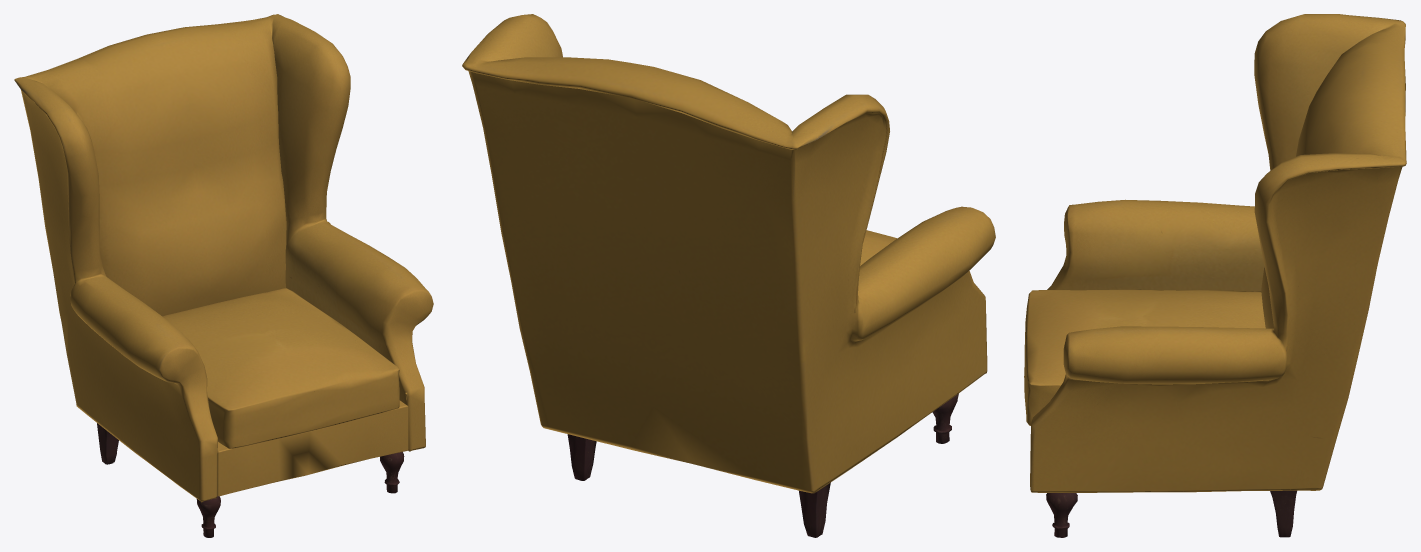
Rendered from armchair.glb.
3 renders of one model, left to right at view 1: azimuth 30°, elevation 25°; view 2: azimuth 150°, elevation 25°; view 3: azimuth 270°, elevation 25°, orthographic. The views are drawn at different scales.
Size of the model in its own units: 0.8118 by 1 by 0.8396.
Materials: 1 (1 with a texture image).
